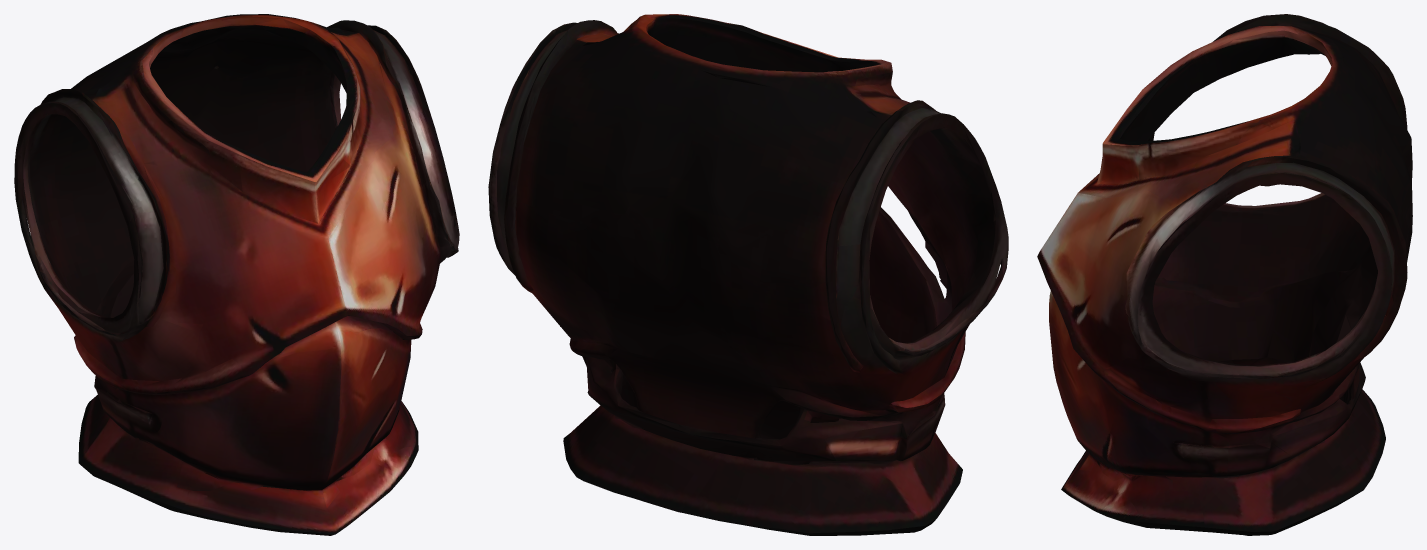
The model's file is jarl_plate.glb.
3 views of the same model, side by side, from view 1: azimuth 30°, elevation 25°; view 2: azimuth 150°, elevation 25°; view 3: azimuth 270°, elevation 25° (orthographic). The views are drawn at different scales.
Visible parts, largest first — view 1: world; view 2: world; view 3: world.
Boxes of the visible parts, <box> form: world: <box>14,14,459,535</box>; world: <box>488,14,1008,535</box>; world: <box>1037,14,1412,535</box>.
Bounding box in the file's own units: 0.6 × 0.7194 × 0.5679.
1 material, 1 textured.
